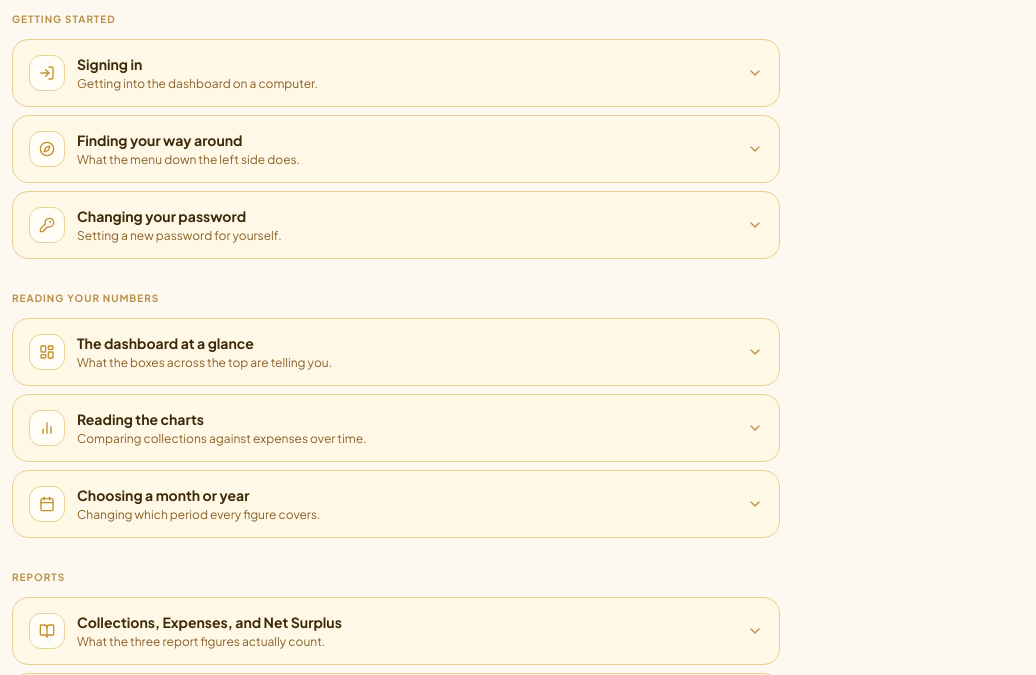
Test: keeps steps hidden until the topic is opened
Expected: the text "Open the app in your web browser" is not shown
Click the button "Signing in Getting into the dashboard on a computer." at (47, 73), box [13,40,779,106]
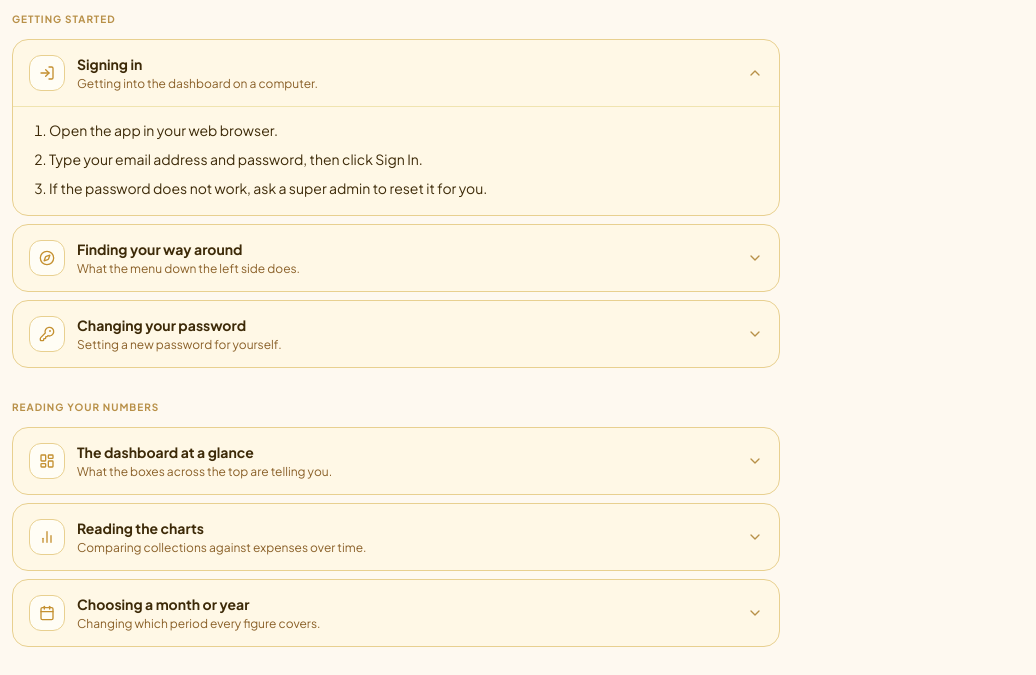
Expected: the button "Signing in Getting into the dashboard on a computer." is expanded, [13,40,779,106]
Expected: the list item "Open the app in your web browser." is shown, [49,121,278,139]
